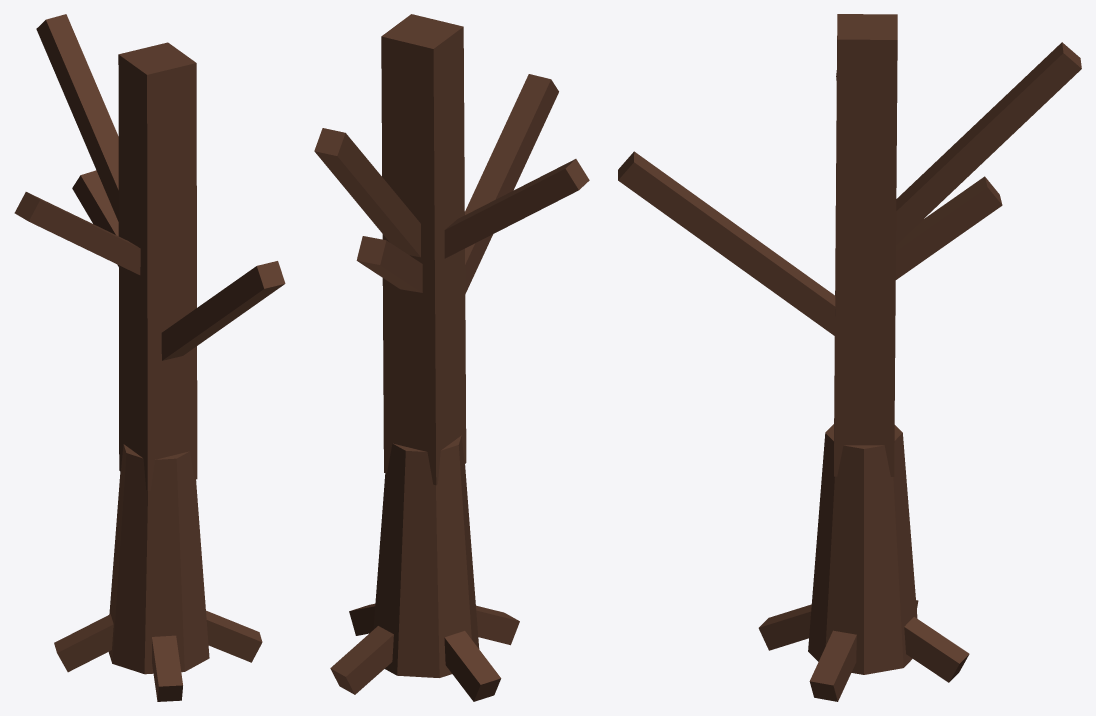
The model's file is tree_rustwood_s_trunk.fbx.
3 renders of one model, left to right at view 1: azimuth 30°, elevation 25°; view 2: azimuth 150°, elevation 25°; view 3: azimuth 270°, elevation 25°, orthographic. The views are drawn at different scales.
Parts seen in each view (by area): view 1: tree_rustwood_s_trunk; view 2: tree_rustwood_s_trunk; view 3: tree_rustwood_s_trunk.
Boxes of the visible parts, box(x1,y1,x2,y2) form: tree_rustwood_s_trunk: box(14, 14, 285, 701); tree_rustwood_s_trunk: box(314, 14, 589, 701); tree_rustwood_s_trunk: box(618, 14, 1081, 701).
Size of the model in its own units: 393 by 976 by 646.
